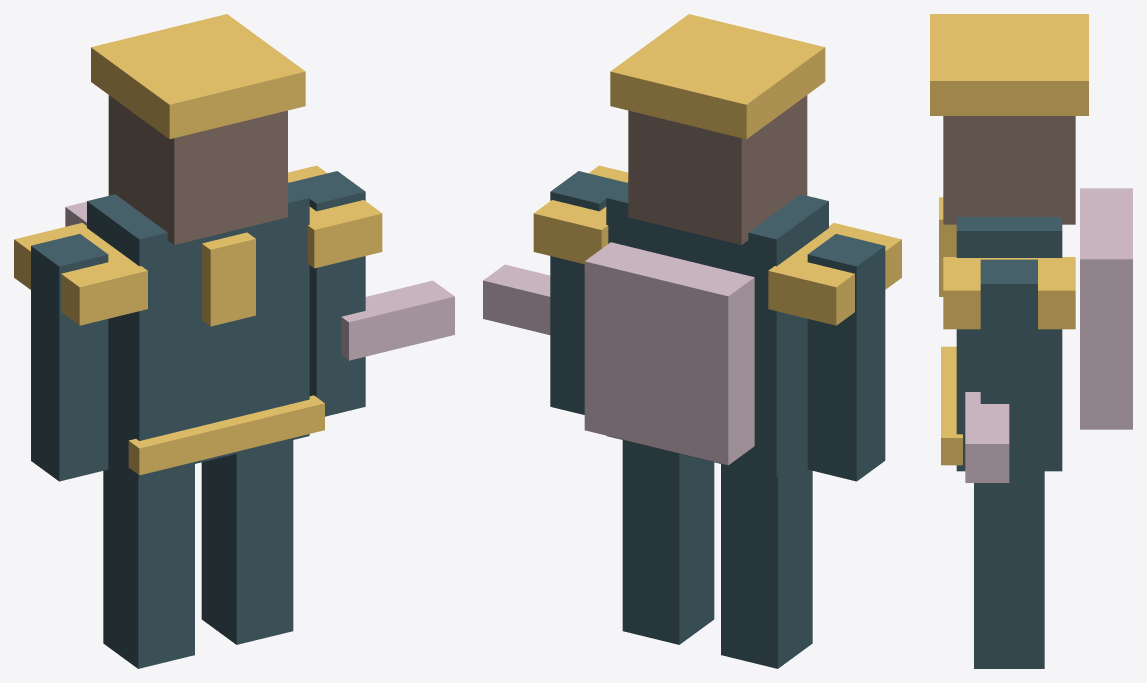
File: 04_nix_deepwell_engineer_of.glb
3 views of the same model, side by side, from view 1: azimuth 30°, elevation 25°; view 2: azimuth 150°, elevation 25°; view 3: azimuth 270°, elevation 25° (orthographic).
Parts seen in each view (by area): view 1: Nix Deepwell, Engineer of; view 2: Nix Deepwell, Engineer of; view 3: Nix Deepwell, Engineer of.
Boxes of the visible parts, x1,y1,x2,y2 form: Nix Deepwell, Engineer of: [14, 14, 454, 668]; Nix Deepwell, Engineer of: [483, 14, 901, 668]; Nix Deepwell, Engineer of: [930, 14, 1132, 668].
Bounding box in the file's own units: 1 × 1.43 × 0.4507.
